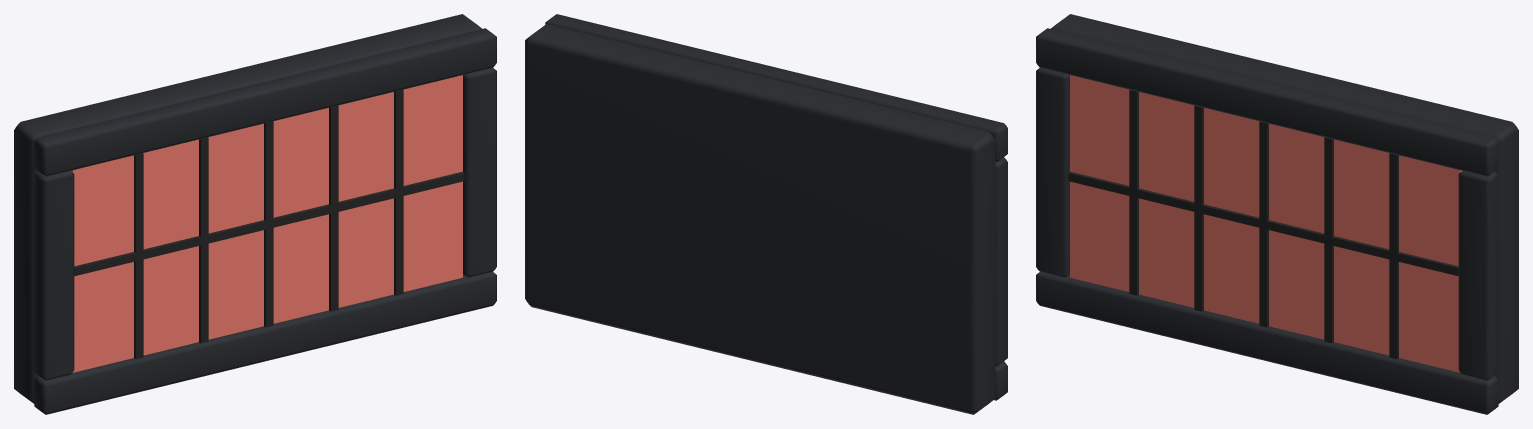
The model's file is Vault_BlastDoor_Light.fbx.
3 views of the same model, side by side, from view 1: azimuth 30°, elevation 25°; view 2: azimuth 150°, elevation 25°; view 3: azimuth 330°, elevation 25° (orthographic).
Parts seen in each view (by area): view 1: Vault_BlastDoor_Light_LOD0; view 2: Vault_BlastDoor_Light_LOD0; view 3: Vault_BlastDoor_Light_LOD0.
Boxes of the visible parts, x1,y1,x2,y2 form: Vault_BlastDoor_Light_LOD0: (14, 14, 496, 414); Vault_BlastDoor_Light_LOD0: (525, 14, 1007, 414); Vault_BlastDoor_Light_LOD0: (1036, 14, 1518, 414).
Size of what is drawn, in the model's own units: 0.7 by 0.4 by 0.09.
